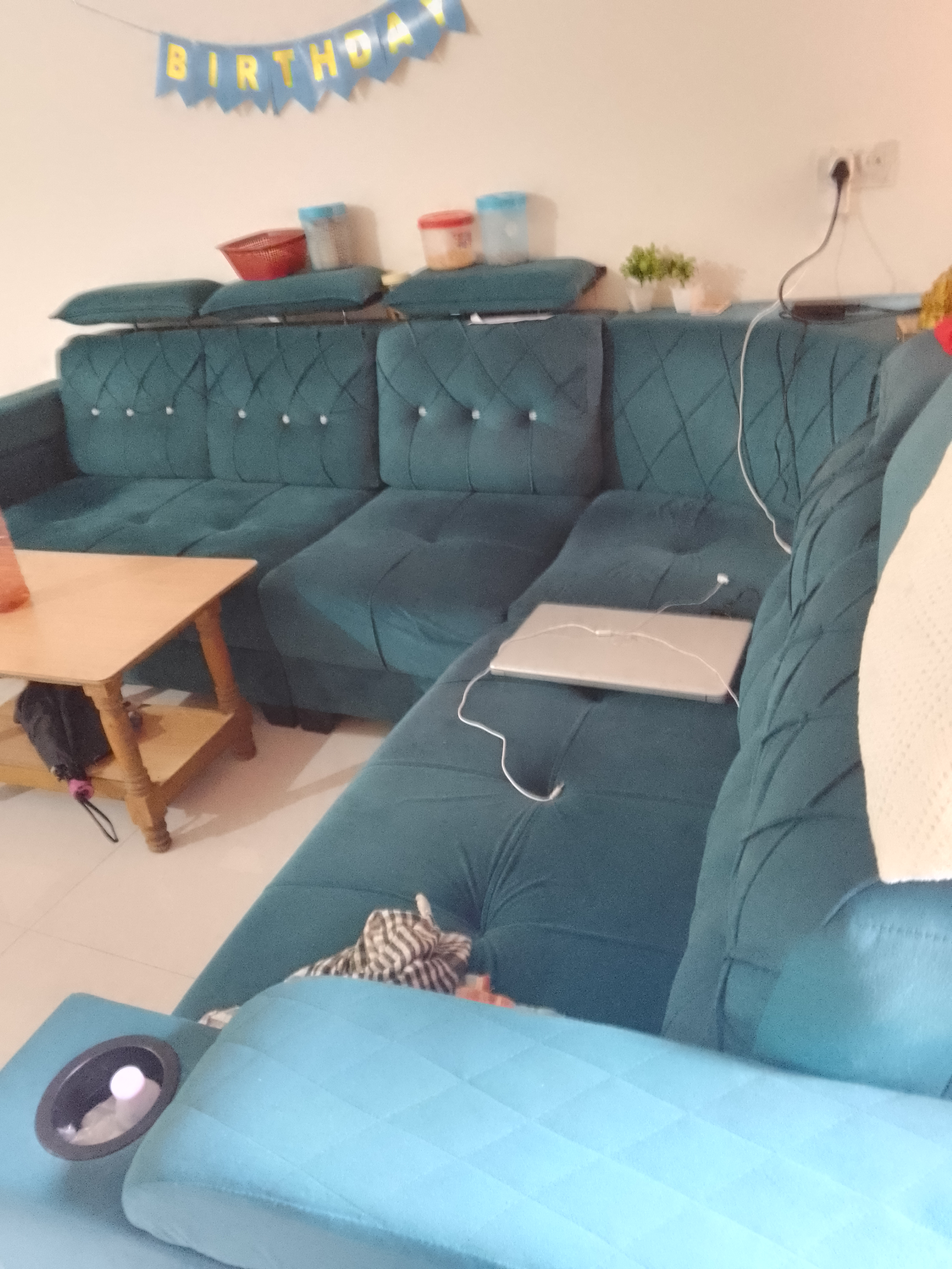sofa: (0, 258, 952, 1269)
table: (0, 539, 261, 845)
